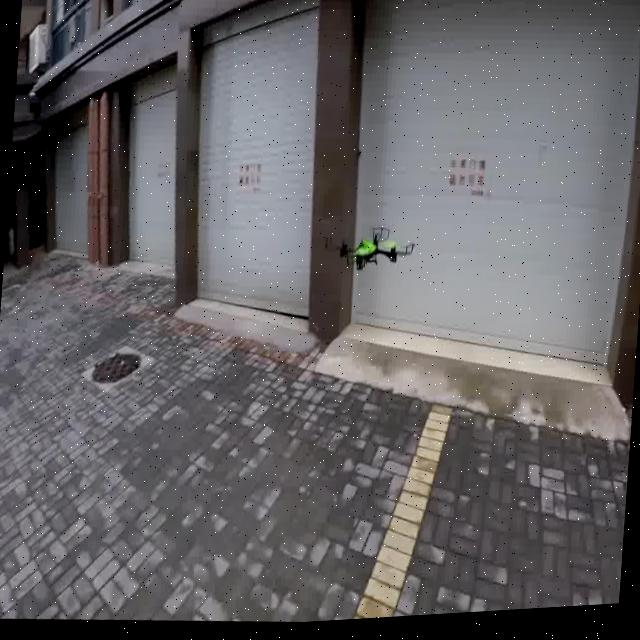drone: (310, 206, 435, 303)
